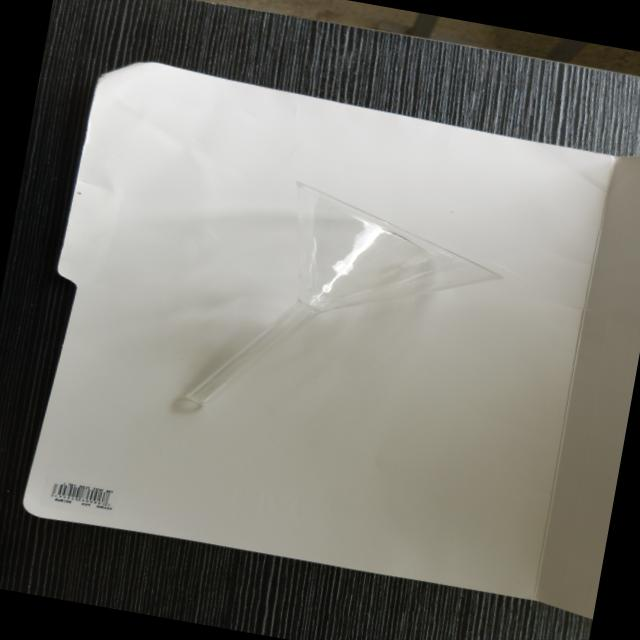funnel: (173, 166, 508, 462)
